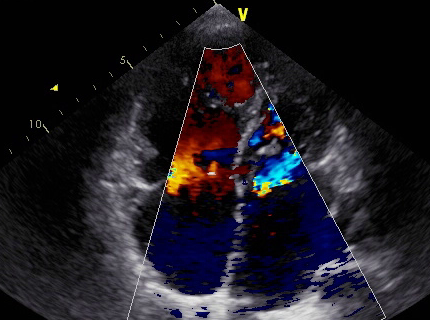MR: (248, 139, 302, 191)
